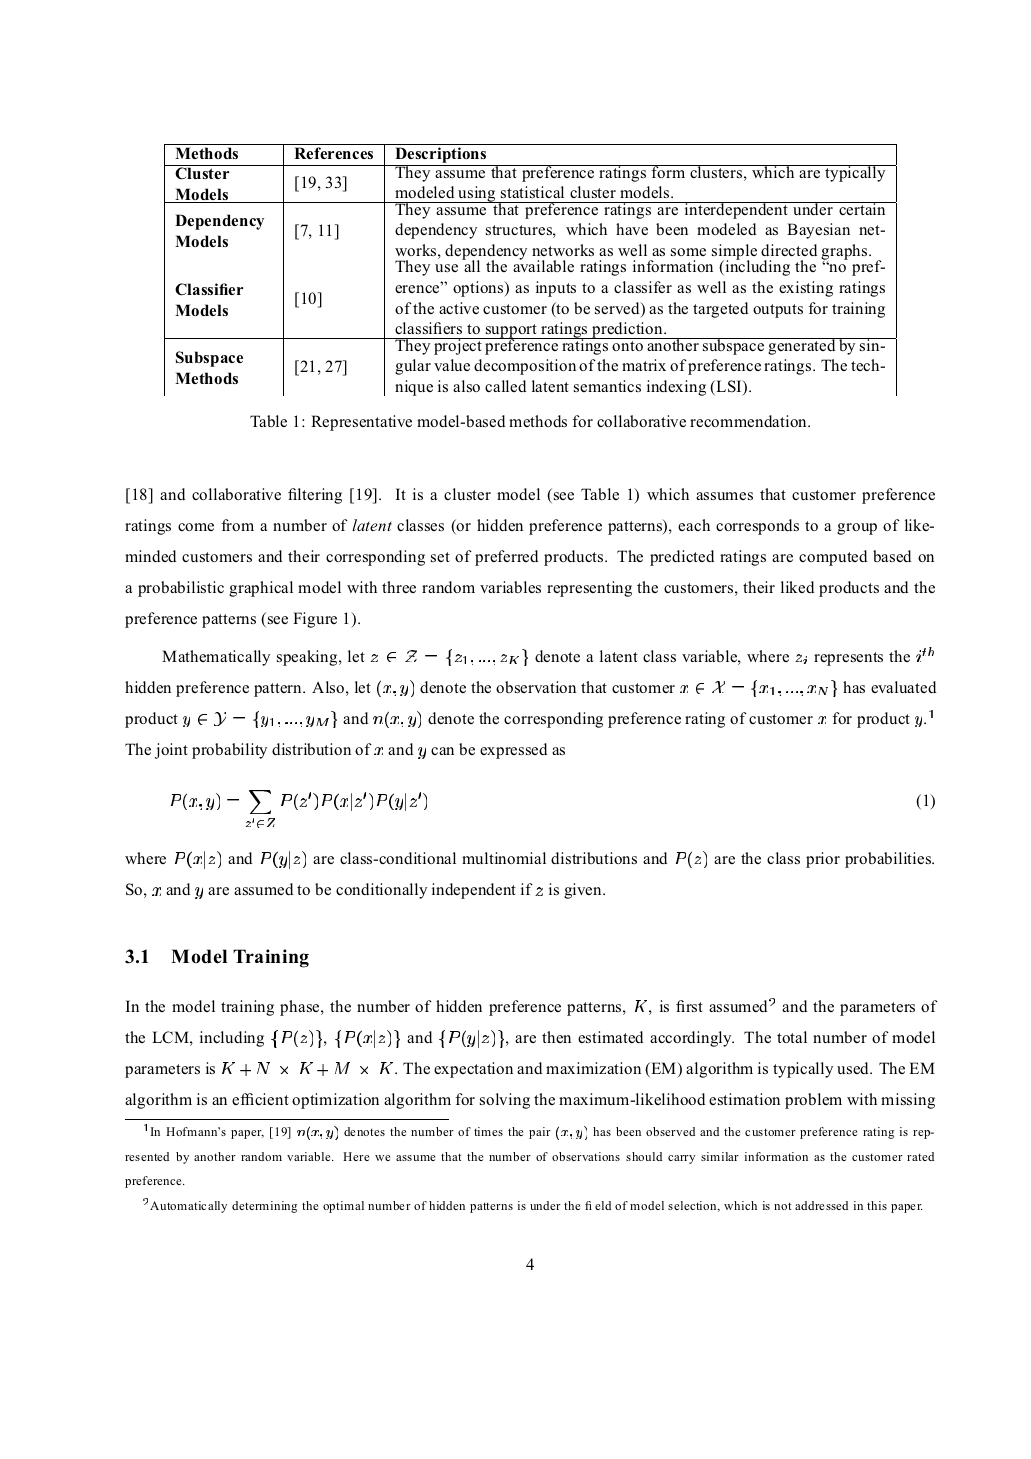Table: (164, 142, 896, 396)
formula: (170, 790, 934, 827)
